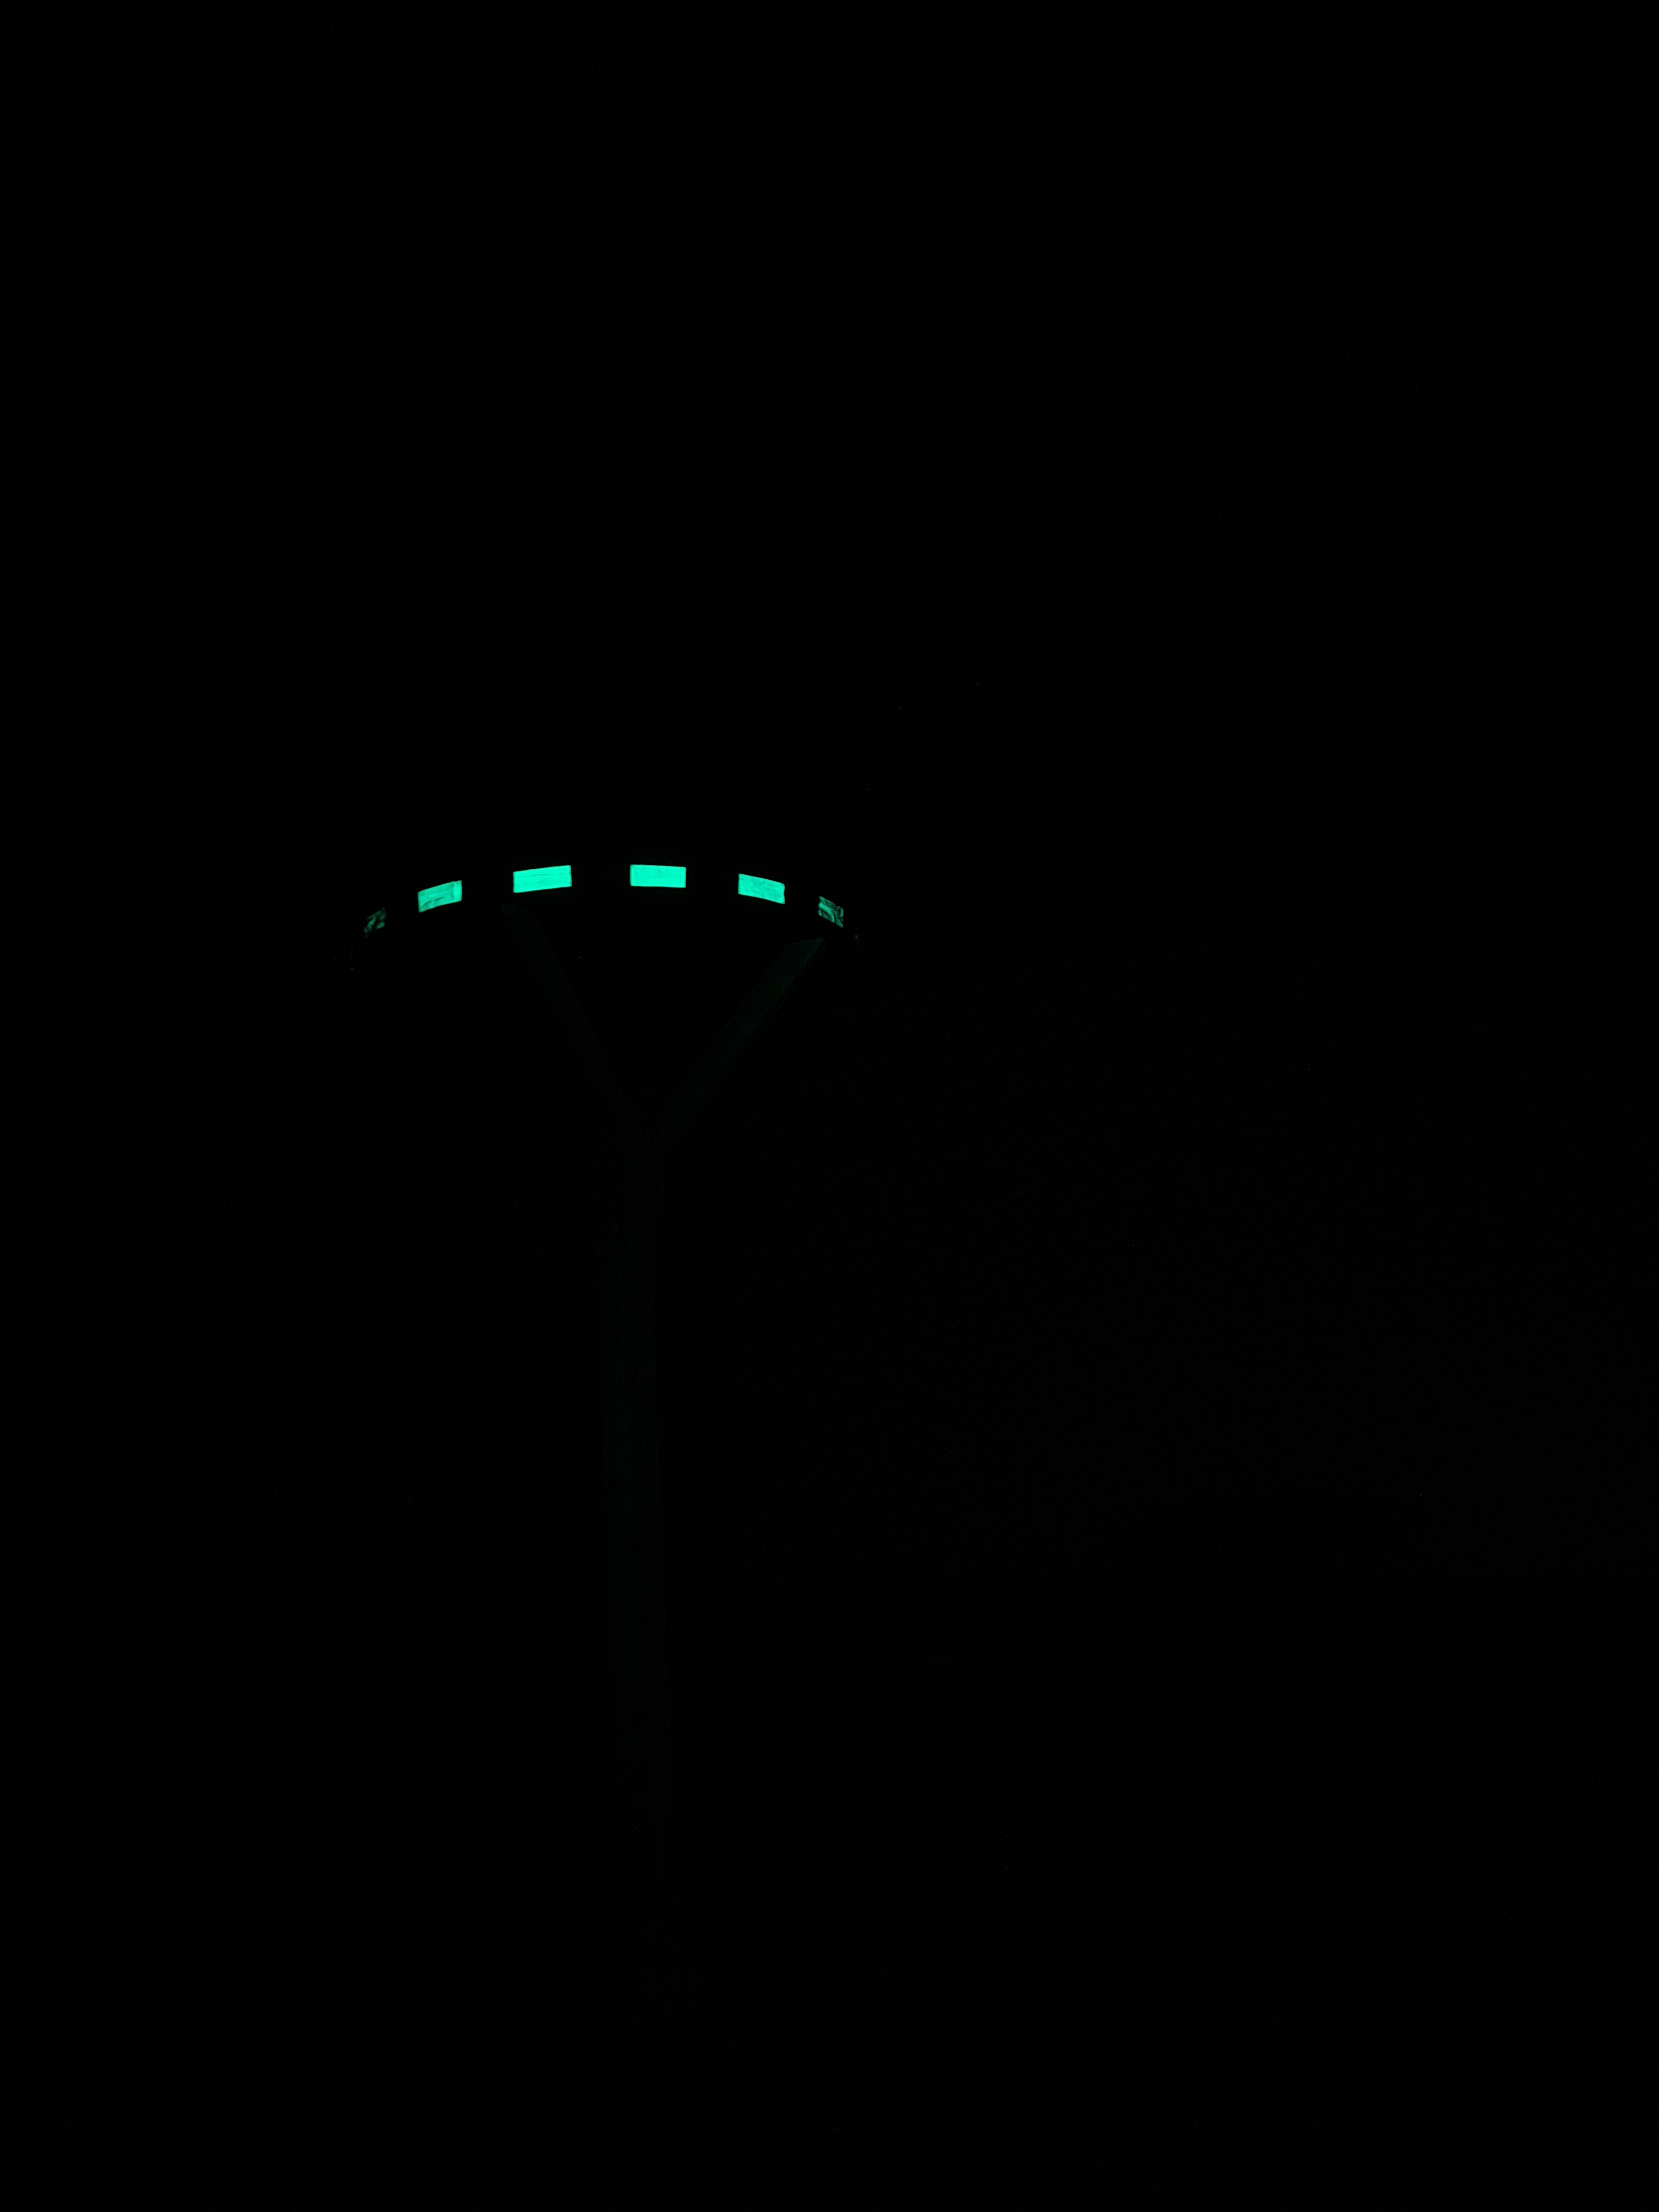hoop: (356, 862, 850, 937)
